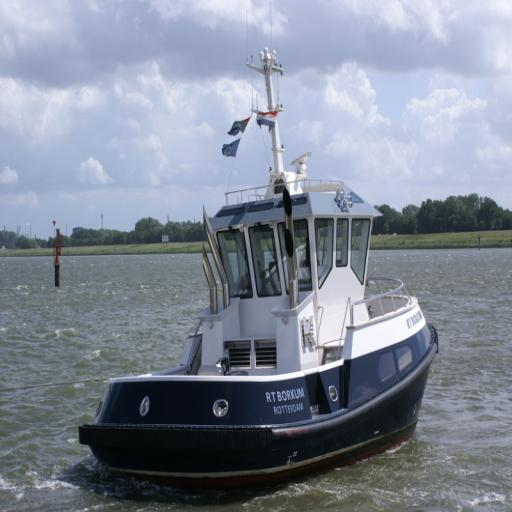tugboat: (74, 43, 444, 507)
